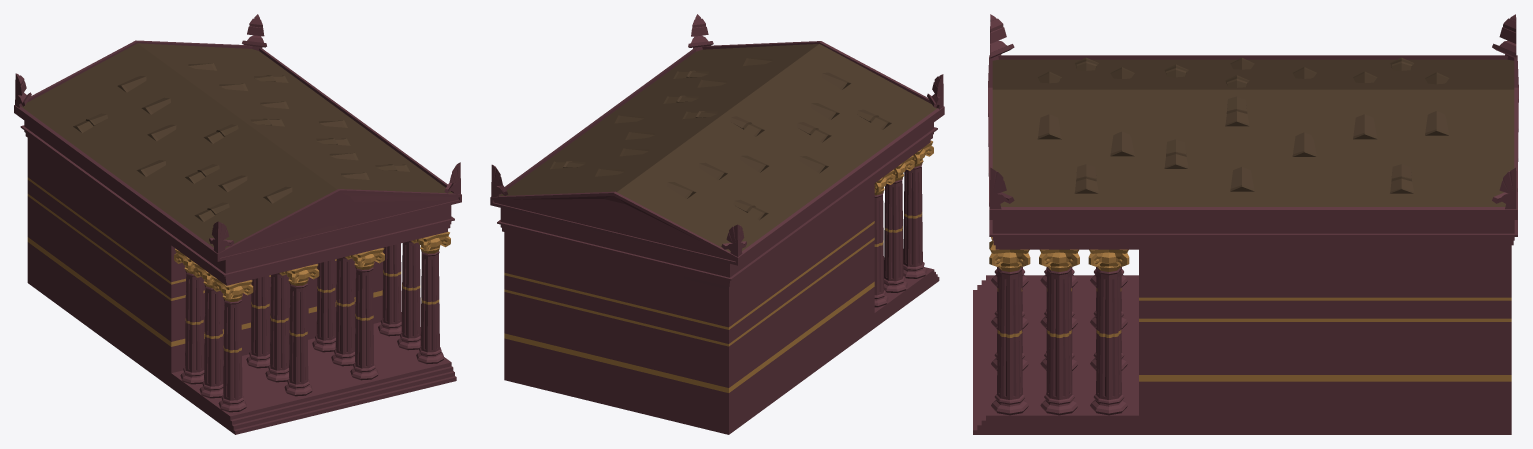
File: SM_Temple_Prostilo_Empire.fbx
3 views of the same model, side by side, from view 1: azimuth 30°, elevation 25°; view 2: azimuth 150°, elevation 25°; view 3: azimuth 270°, elevation 25° (orthographic). The views are drawn at different scales.
Visible parts, largest first — view 1: SM_Ancient_Temple_Prostilo_Empire; view 2: SM_Ancient_Temple_Prostilo_Empire; view 3: SM_Ancient_Temple_Prostilo_Empire.
Boxes of the visible parts, bbox=[...] form: SM_Ancient_Temple_Prostilo_Empire: bbox=[14, 14, 461, 434]; SM_Ancient_Temple_Prostilo_Empire: bbox=[490, 14, 944, 434]; SM_Ancient_Temple_Prostilo_Empire: bbox=[973, 14, 1518, 434].
Size of the model in its own units: 17.99 by 15.03 by 26.83.
